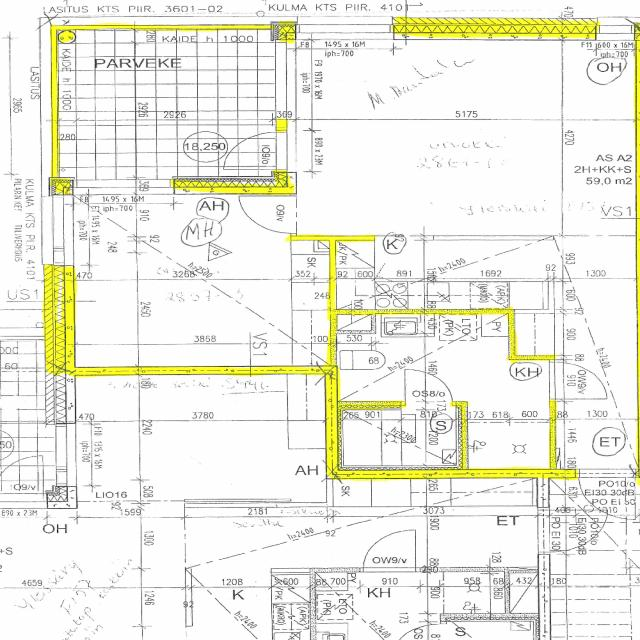door: (220, 132, 296, 169), (579, 468, 635, 517), (237, 195, 296, 233), (549, 362, 606, 398), (405, 368, 451, 409)
